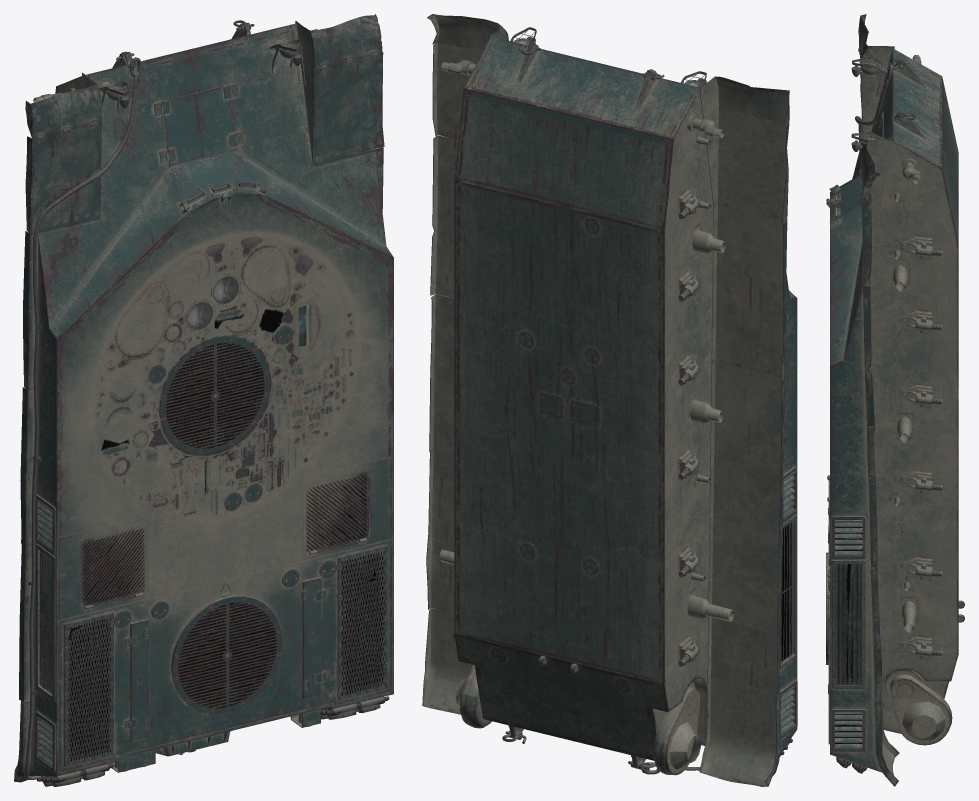
The model's file is Hull.glb.
3 views of the same model, side by side, from view 1: azimuth 30°, elevation 25°; view 2: azimuth 150°, elevation 25°; view 3: azimuth 270°, elevation 25° (orthographic). The views are drawn at different scales.
Visible parts, largest first — view 1: set_0_group_0; view 2: set_0_group_0; view 3: set_0_group_0.
Part boxes in pixels (<box>): set_0_group_0: <box>14,14,393,786</box>; set_0_group_0: <box>422,14,797,786</box>; set_0_group_0: <box>826,14,964,786</box>.
Size of the model in its own units: 3.33 by 6.24 by 1.26.
1 material, 1 textured.
